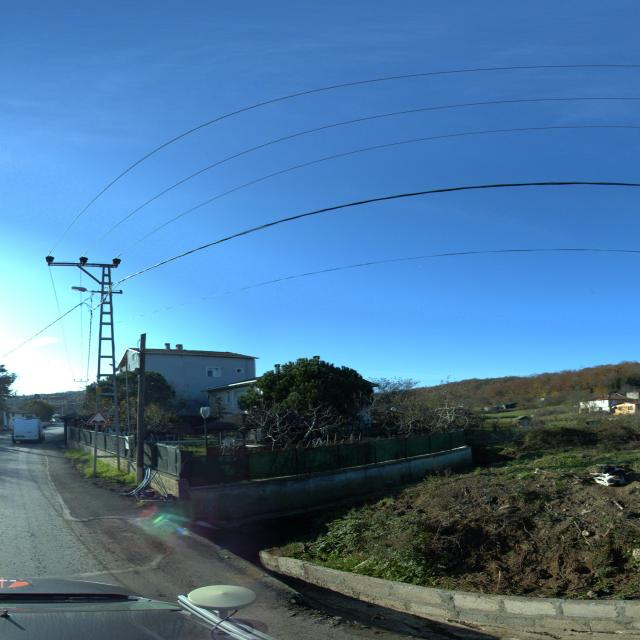Utility Pole Information Plate: (94, 387, 104, 395)
